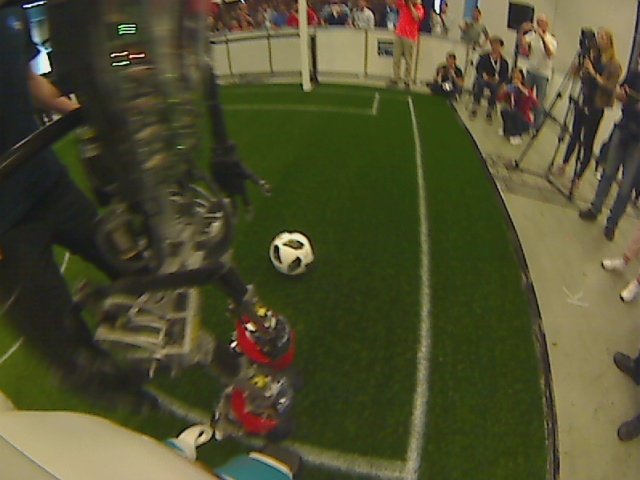ball: (266, 230, 314, 276)
